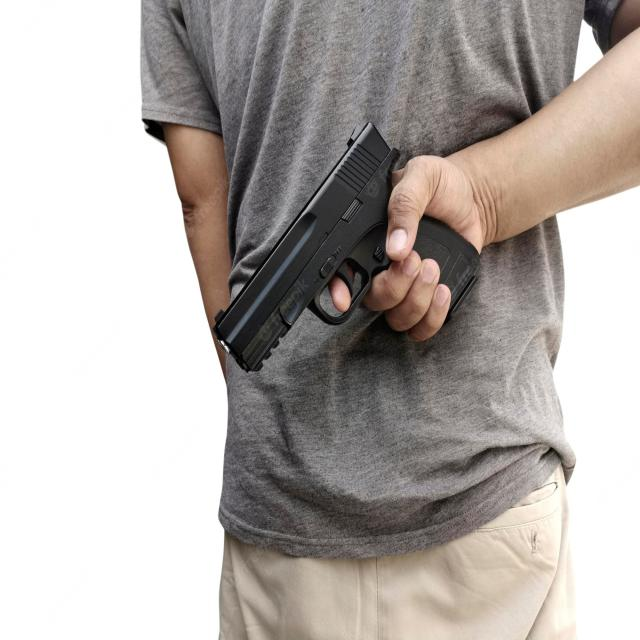HandGun: (215, 122, 480, 373)
